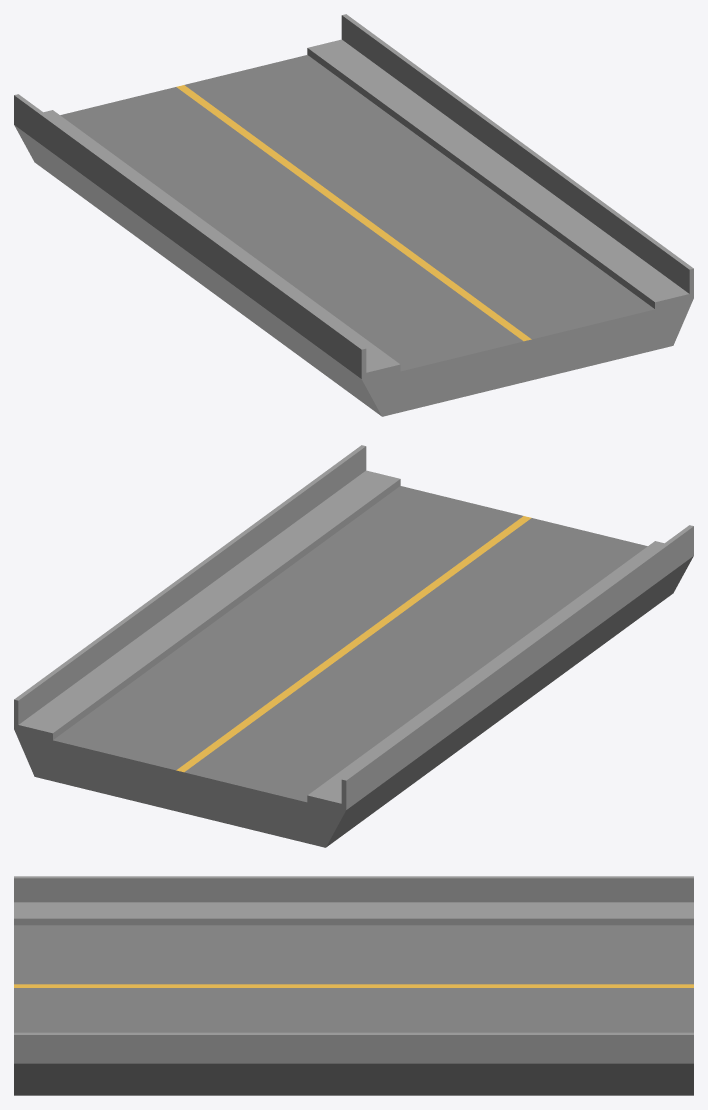
File: bridge-mainroad 1.fbx
3 renders of one model, top to bottom at view 1: azimuth 30°, elevation 25°; view 2: azimuth 150°, elevation 25°; view 3: azimuth 270°, elevation 25°, orthographic. The views are drawn at different scales.
Parts seen in each view (by area): view 1: Cube; view 2: Cube; view 3: Cube.
Boxes of the visible parts, x1=… form: Cube: x1=14, y1=14, x2=693, y2=416; Cube: x1=14, y1=445, x2=693, y2=847; Cube: x1=14, y1=876, x2=693, y2=1095.
Bounding box in the file's own units: 1645 × 342 × 2980.
